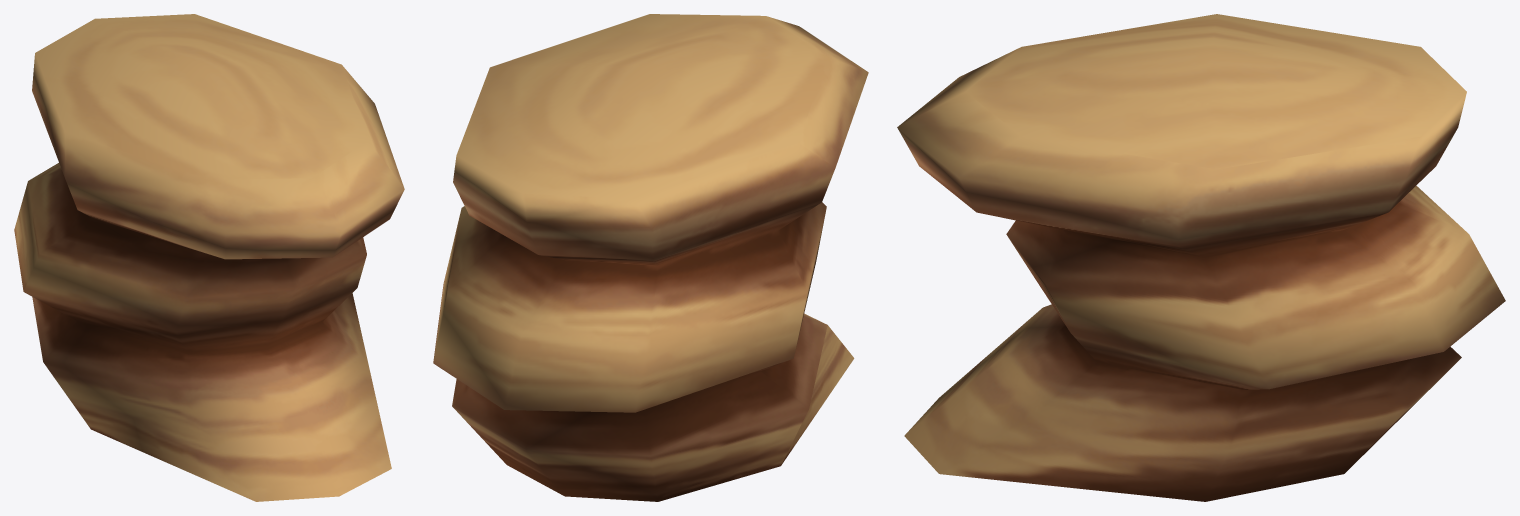
The model's file is cj_fenghuashi1.fbx.
3 views of the same model, side by side, from view 1: azimuth 30°, elevation 25°; view 2: azimuth 150°, elevation 25°; view 3: azimuth 270°, elevation 25° (orthographic). The views are drawn at different scales.
Parts seen in each view (by area): view 1: cj_fenghuashi1; view 2: cj_fenghuashi1; view 3: cj_fenghuashi1.
Boxes of the visible parts, box(x1,y1,x2,y2) form: cj_fenghuashi1: box(14, 14, 404, 501); cj_fenghuashi1: box(433, 14, 868, 501); cj_fenghuashi1: box(897, 14, 1505, 501).
Size of the model in its own units: 2465 by 2489 by 3594.
